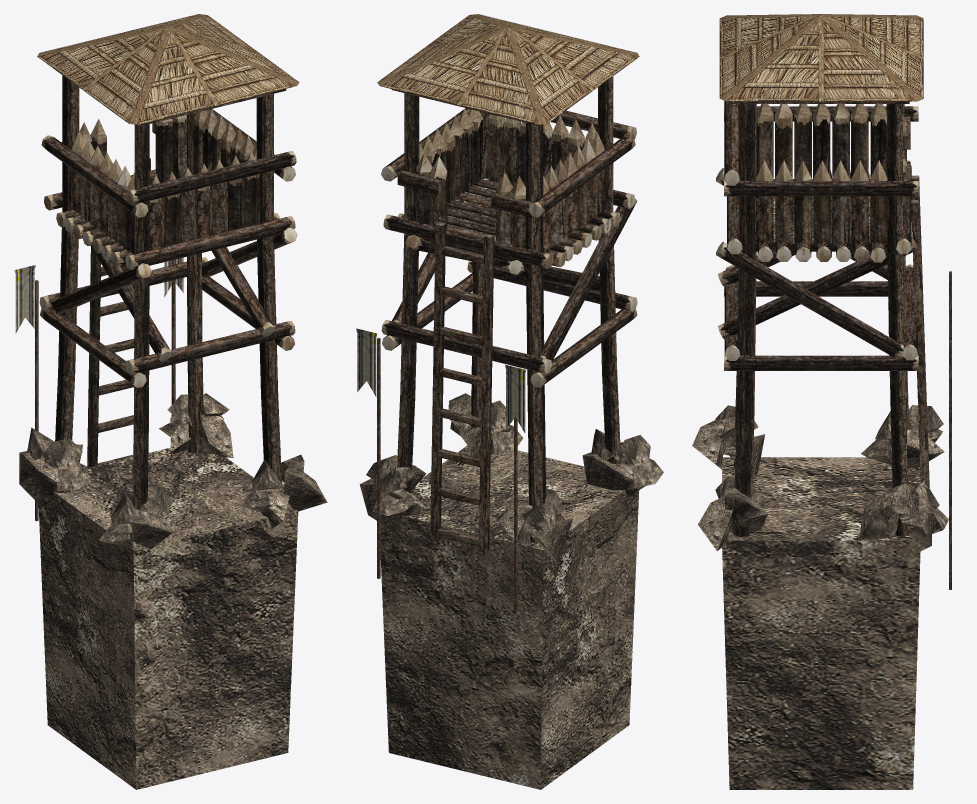
The model's file is outpost.glb.
The picture shows the model from 3 angles, left to right: view 1: azimuth 30°, elevation 25°; view 2: azimuth 150°, elevation 25°; view 3: azimuth 270°, elevation 25°; orthographic projection. The views are drawn at different scales.
Parts seen in each view (by area): view 1: outpost_part0, outpost_part1; view 2: outpost_part0, outpost_part1; view 3: outpost_part0.
Part boxes in pixels (x1,y1,x2,y2): outpost_part0: (19,14,327,789); outpost_part1: (14,257,183,333); outpost_part0: (359,14,663,789); outpost_part1: (356,328,525,432); outpost_part0: (692,14,951,789).
Size of the model in its own units: 1.92 by 5.99 by 2.
Materials: 2 (2 with a texture image).
